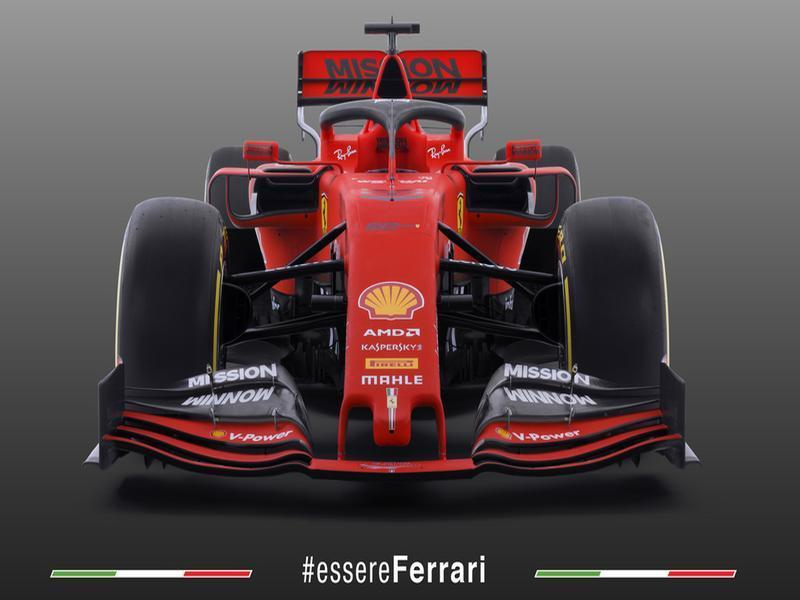f1: (85, 37, 756, 516)
